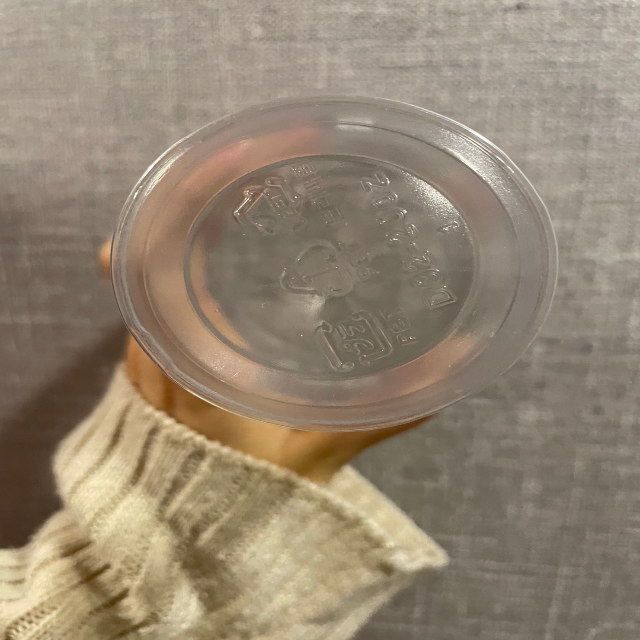pet: (225, 156, 352, 239), (307, 300, 422, 373), (276, 234, 383, 304)
